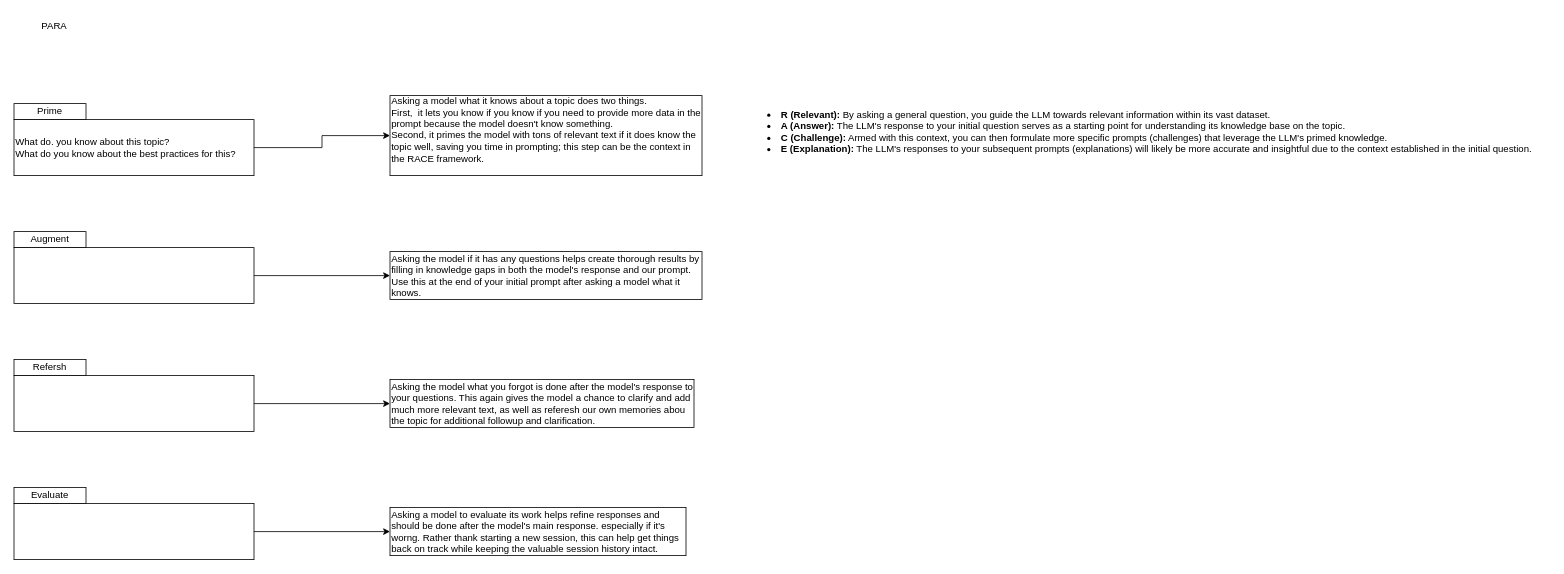
Image size: 1564x574. Some labels were removed from this diagram. Each missing label, with the box of its shape:
Did you fulfil the conditions of the prompt completely: (13, 503, 254, 560)
What did I forget to ask? What did I overtake on this topic.: (13, 375, 254, 432)
what questions do you have?: (13, 247, 254, 304)
